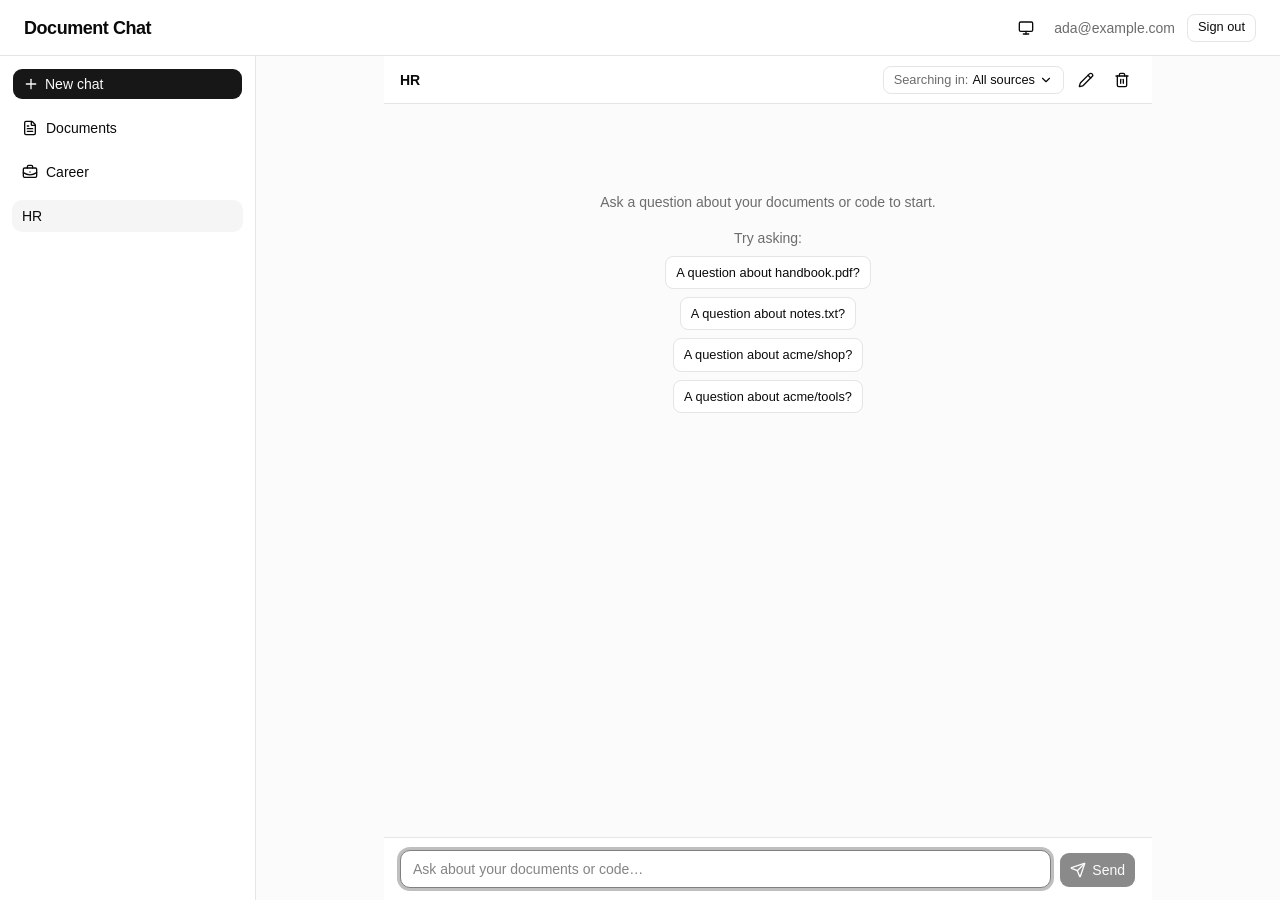
Test: choosing the sources of a chat › the list › has everything ticked when the whole library is searched
This screenshot has width=1280, height=900.
Click the button "Searching in: All sources" at (973, 80), box [883, 66, 1064, 94]
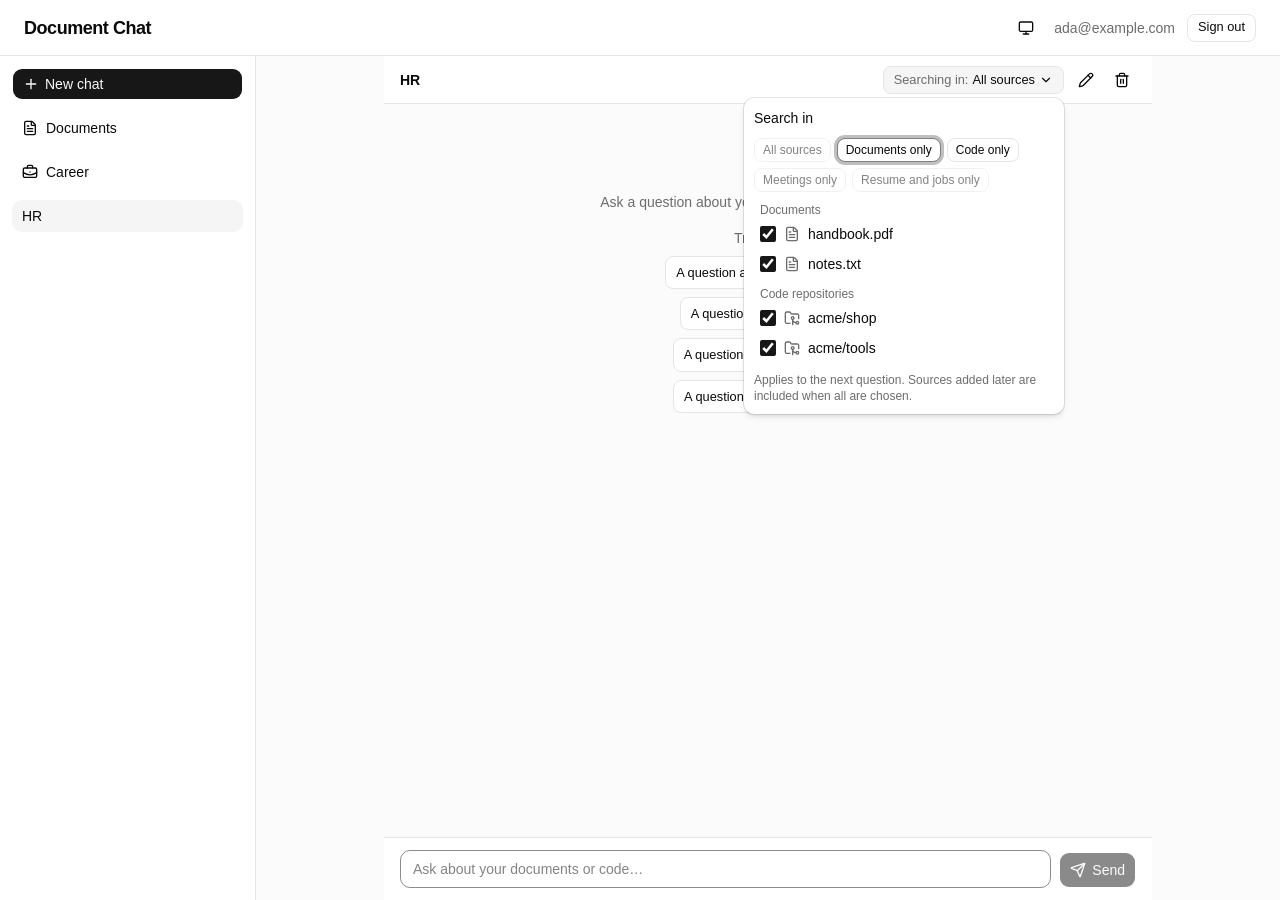
Now the checkbox labelled "handbook.pdf" is checked, box [760, 226, 776, 242]
Now the checkbox labelled "notes.txt" is checked, box [760, 256, 776, 272]
Now the checkbox labelled "acme/shop" is checked, box [760, 310, 776, 326]
